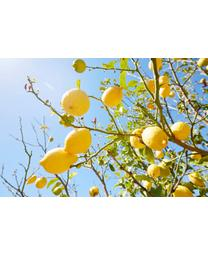lemon: (41, 148, 79, 172), (62, 90, 89, 118), (63, 127, 92, 153), (139, 128, 170, 149), (102, 85, 122, 108), (173, 120, 191, 139)
